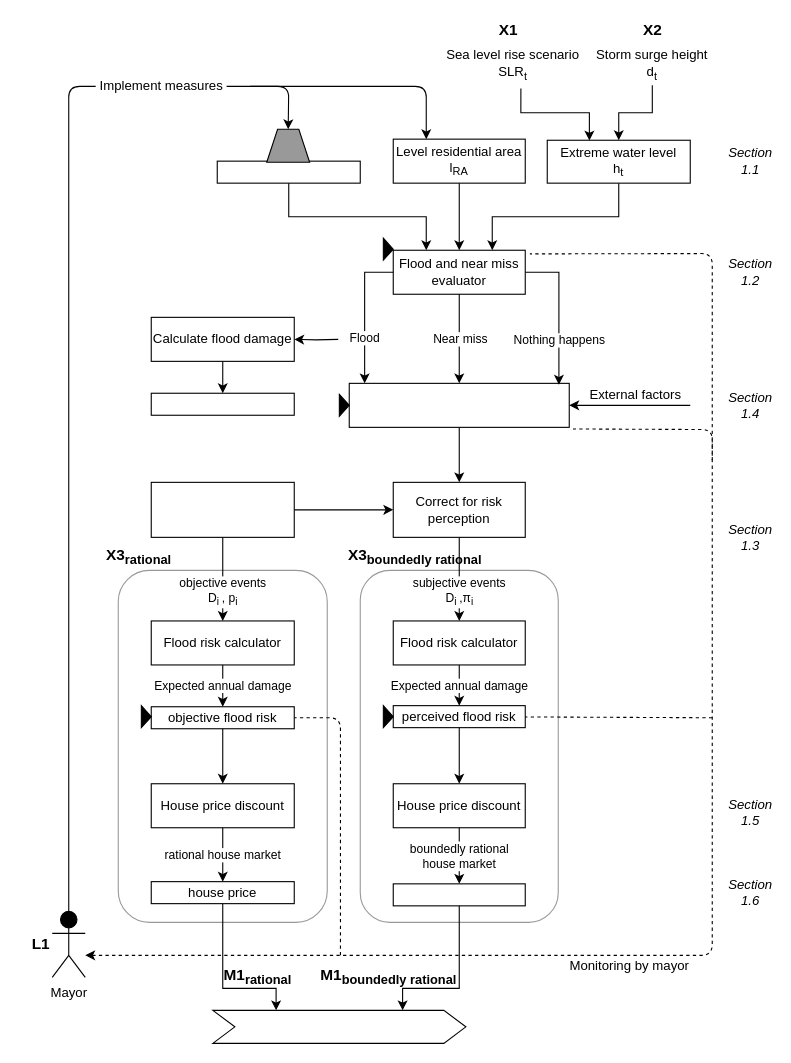
Image size: 791x1063. Some labels were removed from this diagram. The centre of each missing label's shape, as x and y in pixels:
"Dike height H t" belongs at pixel 288 171.
"house price*" belongs at pixel 458 894.
"observed damage" belongs at pixel 222 403.
"Synthetic event generator (1:2, 1:5 ..., 1:1000)" belongs at pixel 222 509.
"Tipping point evaluation" belongs at pixel 339 1026.
"Updating risk perception RP t" belongs at pixel 458 404.
